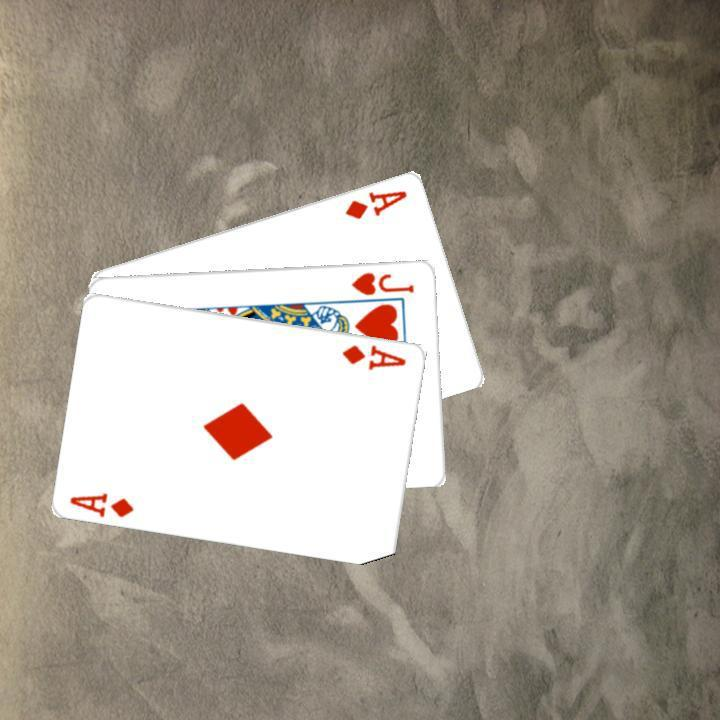A: (341, 185, 410, 221), (66, 487, 136, 520), (338, 340, 408, 372)
J: (348, 267, 416, 297)
